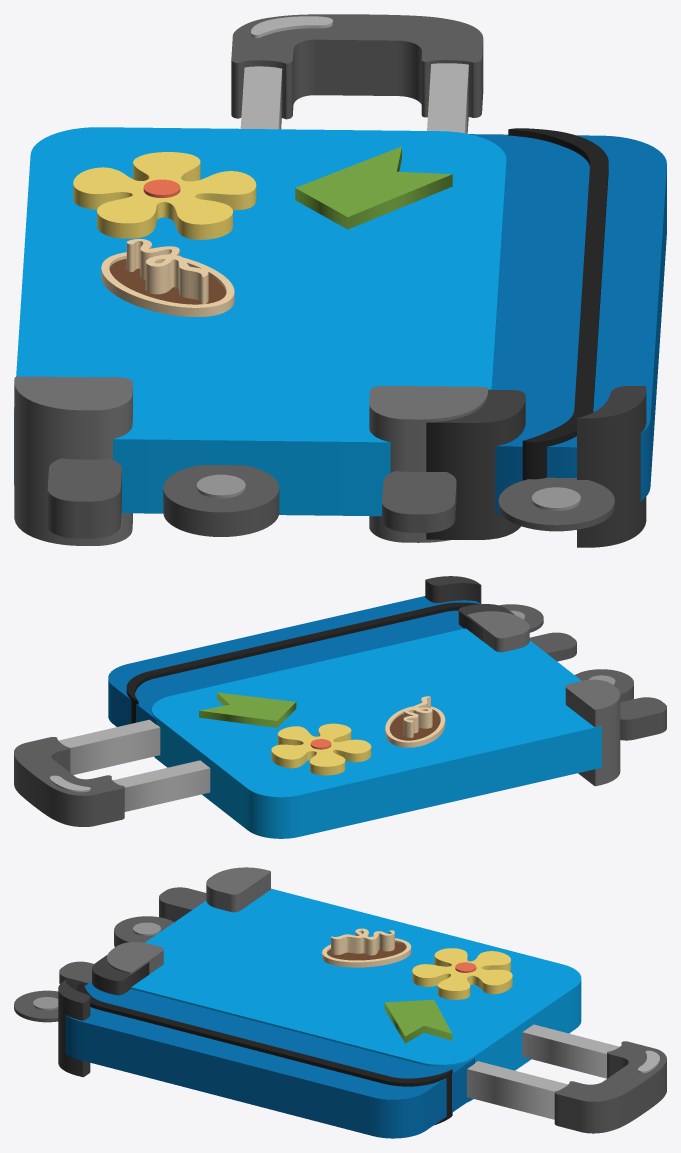
The model's file is emoji_u1f9f3.glb.
The picture shows the model from 3 angles, top to bottom: view 1: azimuth 30°, elevation 25°; view 2: azimuth 150°, elevation 25°; view 3: azimuth 270°, elevation 25°; orthographic projection. The views are drawn at different scales.
Parts seen in each view (by area): view 1: emoji_u1f9f3; view 2: emoji_u1f9f3; view 3: emoji_u1f9f3.
Boxes of the visible parts, x1,y1,x2,y2 form: emoji_u1f9f3: (14,14,666,547); emoji_u1f9f3: (14,576,666,838); emoji_u1f9f3: (14,867,666,1138).
Size of the model in its own units: 0.0269 by 0.0046 by 0.0336.
